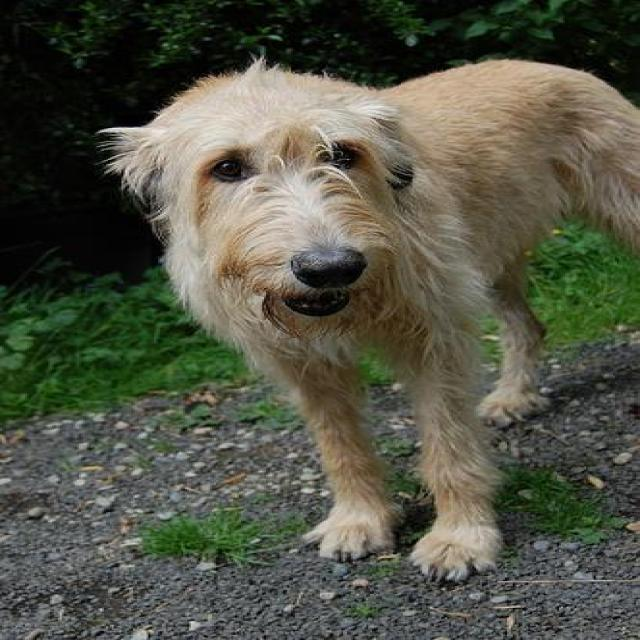irish_wolfhound: (98, 60, 636, 580)
